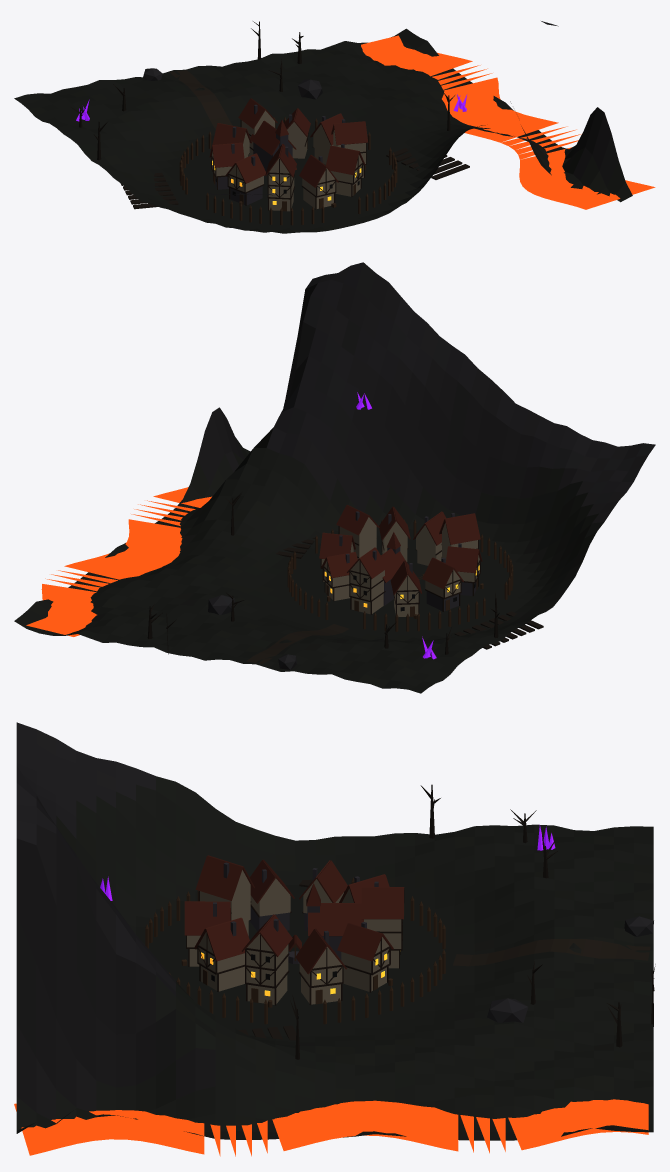
Rendered from chunk-3-6.glb.
3 views of the same model, one above another, from view 1: azimuth 30°, elevation 25°; view 2: azimuth 150°, elevation 25°; view 3: azimuth 270°, elevation 25° (orthographic). The views are drawn at different scales.
Parts seen in each view (by area): view 1: Ash_Ground, Lava, Roof_Tile, Plaster, Old_Wood, Cliff_Rock, Farm_Soil, Timber, Castle_Stone, Dirt_Road, Dead_Wood, Dark_Rock; view 2: Ash_Ground, Cliff_Rock, Mountain_Rock, Lava, Roof_Tile, Plaster, Old_Wood, Timber, Castle_Stone, Farm_Soil, Dirt_Road, Dead_Wood (+1 smaller); view 3: Ash_Ground, Cliff_Rock, Lava, Roof_Tile, Mountain_Rock, Plaster, Old_Wood, Dirt_Road, Timber, Dead_Wood, Castle_Stone, Dark_Rock.
Part boxes in pixels (<box>): Ash_Ground: <box>14,28,632,233</box>; Lava: <box>361,35,655,209</box>; Roof_Tile: <box>209,98,368,187</box>; Plaster: <box>212,110,365,211</box>; Old_Wood: <box>179,117,397,225</box>; Cliff_Rock: <box>521,107,618,186</box>; Farm_Soil: <box>120,148,469,209</box>; Timber: <box>211,120,366,211</box>; Castle_Stone: <box>215,104,345,205</box>; Dirt_Road: <box>169,70,232,129</box>; Dead_Wood: <box>71,21,454,160</box>; Dark_Rock: <box>143,68,322,99</box>; Ash_Ground: <box>14,427,604,693</box>; Cliff_Rock: <box>197,262,539,515</box>; Mountain_Rock: <box>266,262,655,523</box>; Lava: <box>26,487,211,636</box>; Roof_Tile: <box>319,505,482,594</box>; Plaster: <box>321,517,479,616</box>; Old_Wood: <box>287,519,513,631</box>; Timber: <box>320,526,480,614</box>; Castle_Stone: <box>339,511,476,611</box>; Farm_Soil: <box>276,537,543,649</box>; Dirt_Road: <box>246,624,348,664</box>; Dead_Wood: <box>147,492,499,654</box>; Ash_Ground: <box>16,776,653,1140</box>; Cliff_Rock: <box>16,796,215,1119</box>; Lava: <box>14,1099,648,1156</box>; Roof_Tile: <box>184,855,404,974</box>; Mountain_Rock: <box>16,722,175,996</box>; Plaster: <box>187,870,401,1004</box>; Old_Wood: <box>145,877,445,1024</box>; Dirt_Road: <box>453,939,650,966</box>; Timber: <box>186,885,402,1005</box>; Dead_Wood: <box>290,784,655,1059</box>; Castle_Stone: <box>213,862,378,963</box>; Dark_Rock: <box>487,916,653,1022</box>.
Size of the model in its own units: 86.21 by 41.52 by 80.6.
